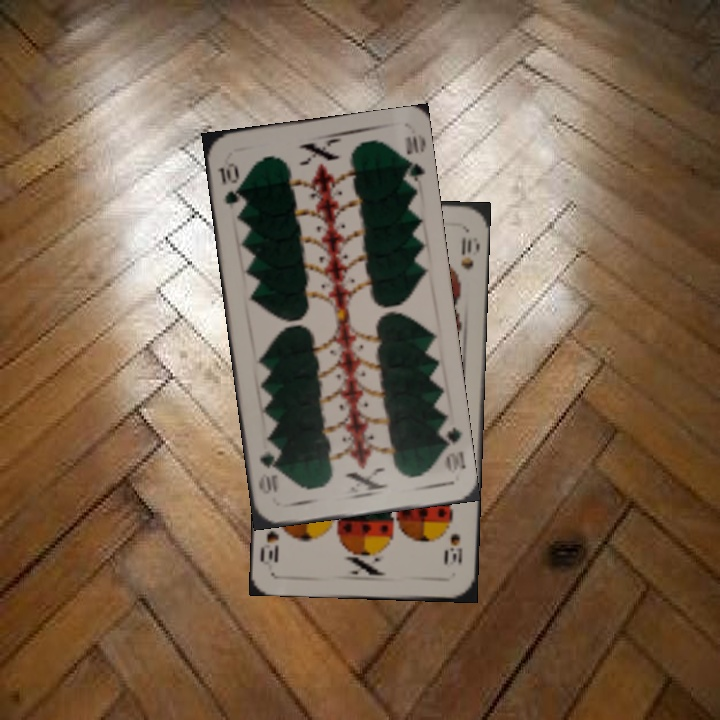G10: (435, 419, 468, 476), (213, 158, 244, 207)
S10: (443, 529, 465, 567)
